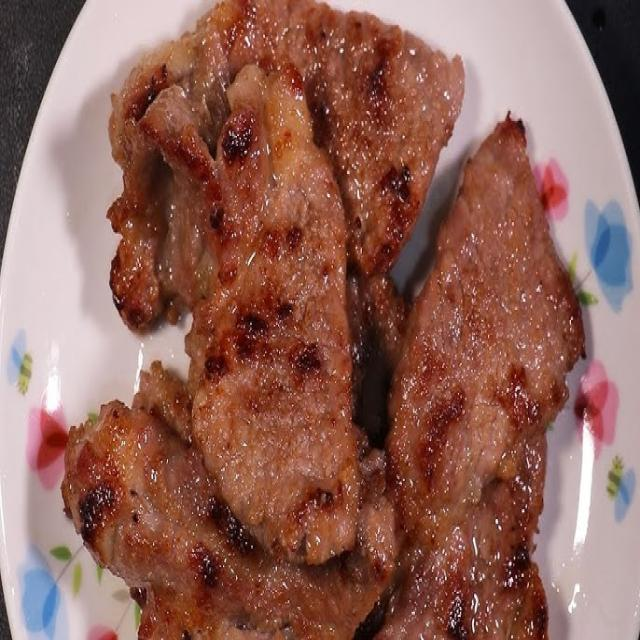thit chien: (61, 0, 582, 638)
